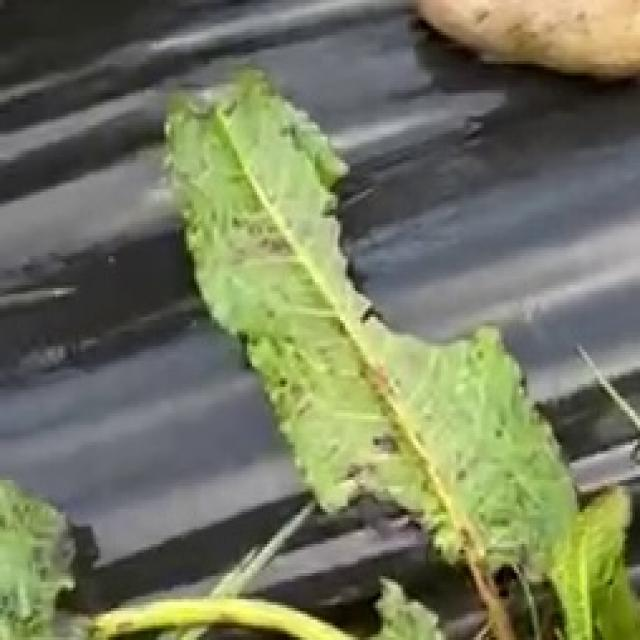organic waste: (70, 29, 640, 640)
